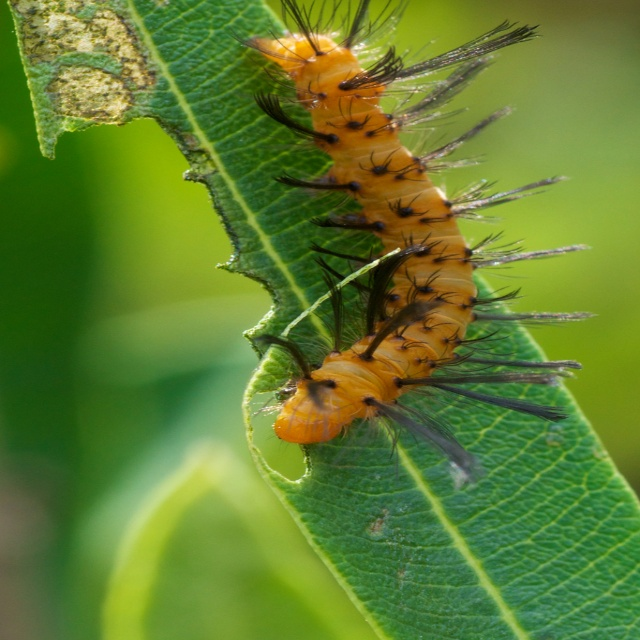Caterpillar: (231, 0, 600, 476)
